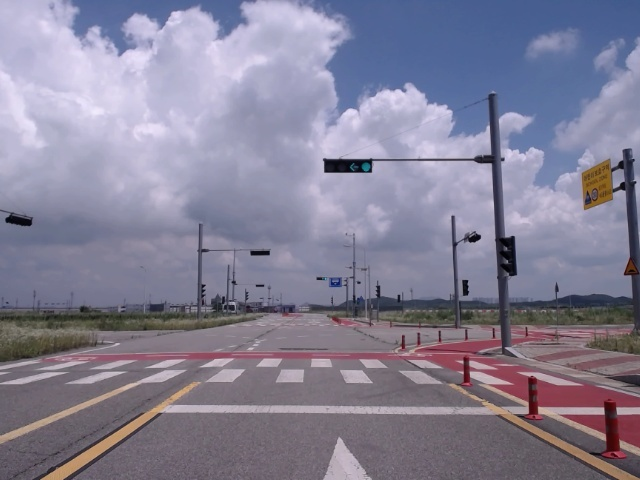all_green_4: (326, 158, 371, 172)
